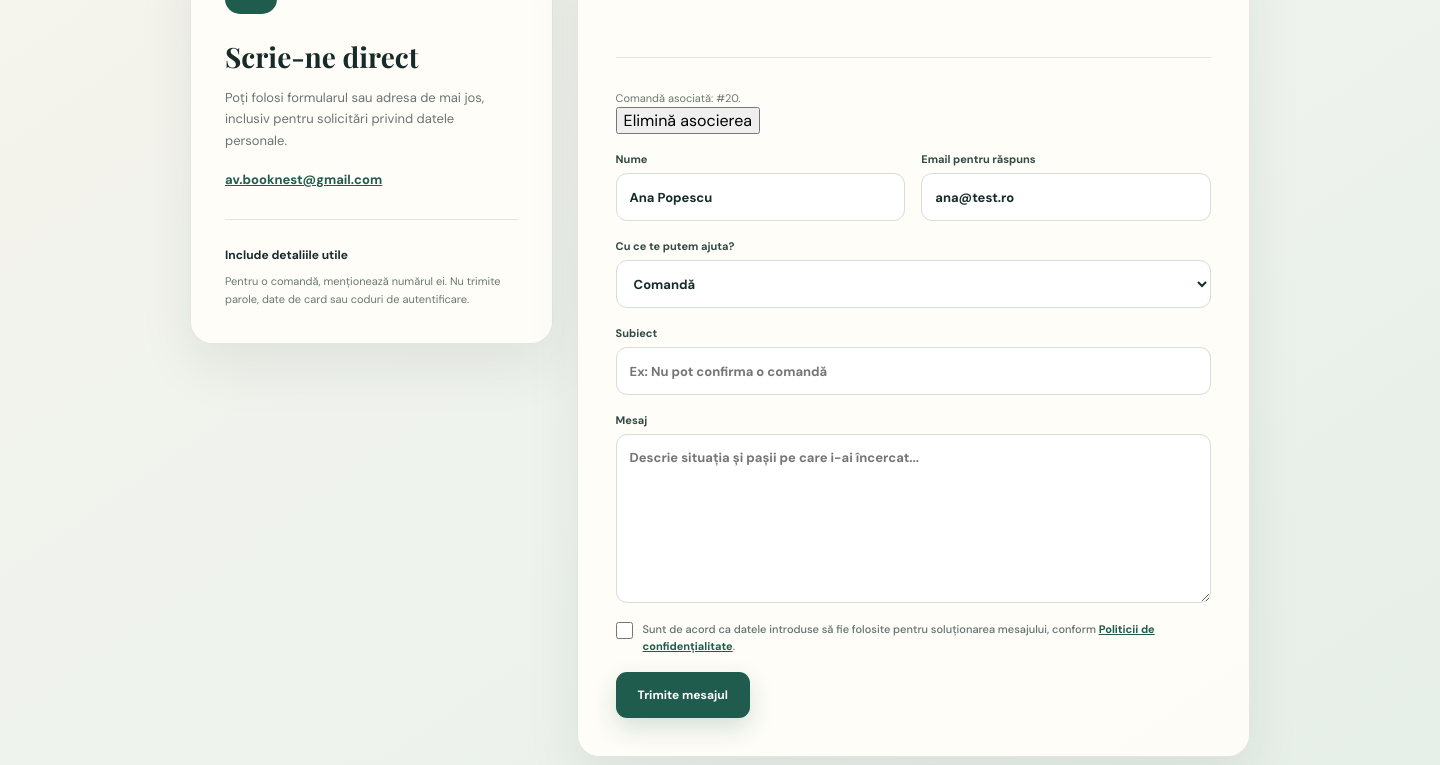
Test case: support portal › contact creates a linked ticket and displays its reference
(page scrolled)
Type "Ajutor comandă" into the field labelled "Subiect" at {"x": 913, "y": 371}, box [616,347,1211,395]
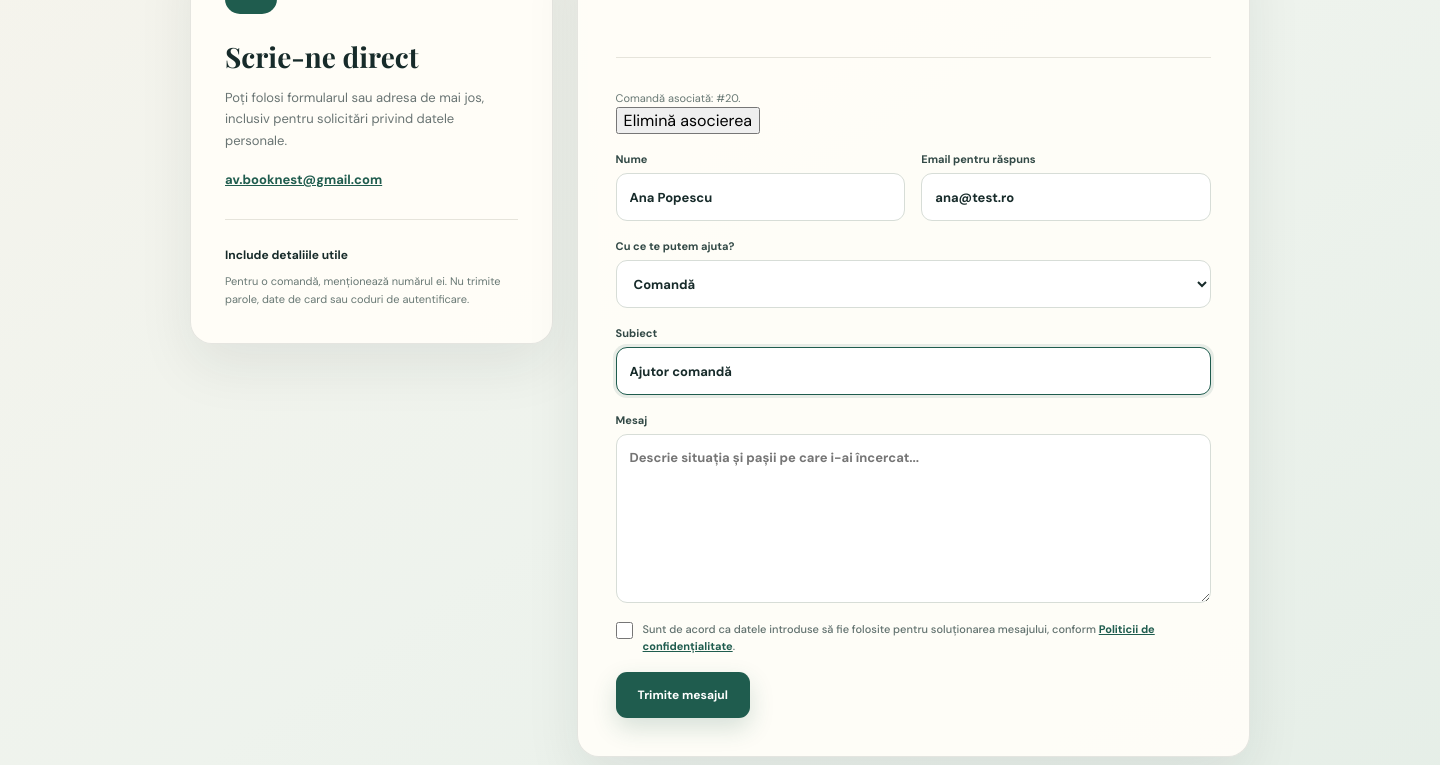
Type "Am nevoie de ajutor cu această comandă." into the text box labelled "Mesaj" at {"x": 913, "y": 519}, box [616,434,1211,603]
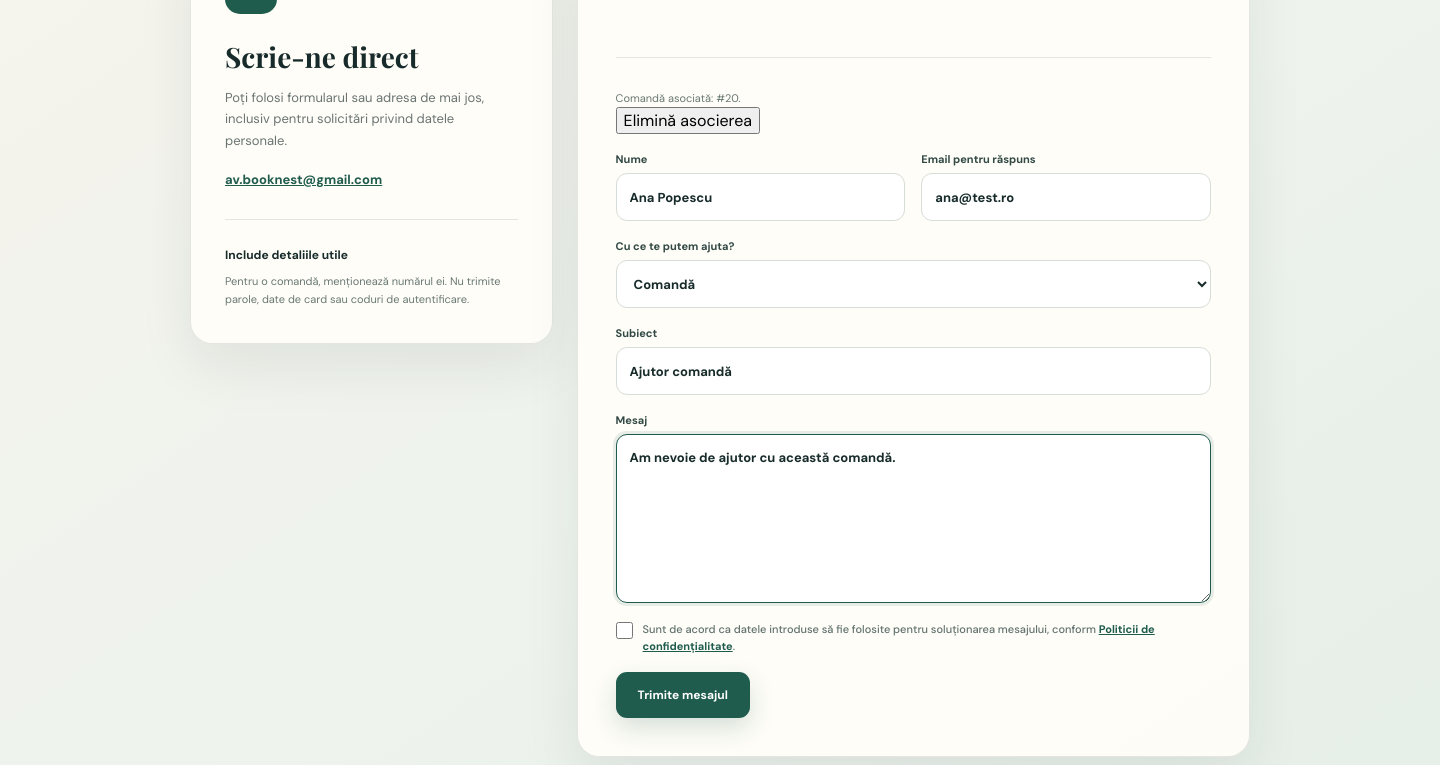
Click the checkbox at {"x": 624, "y": 631}, box [616,622,633,639]
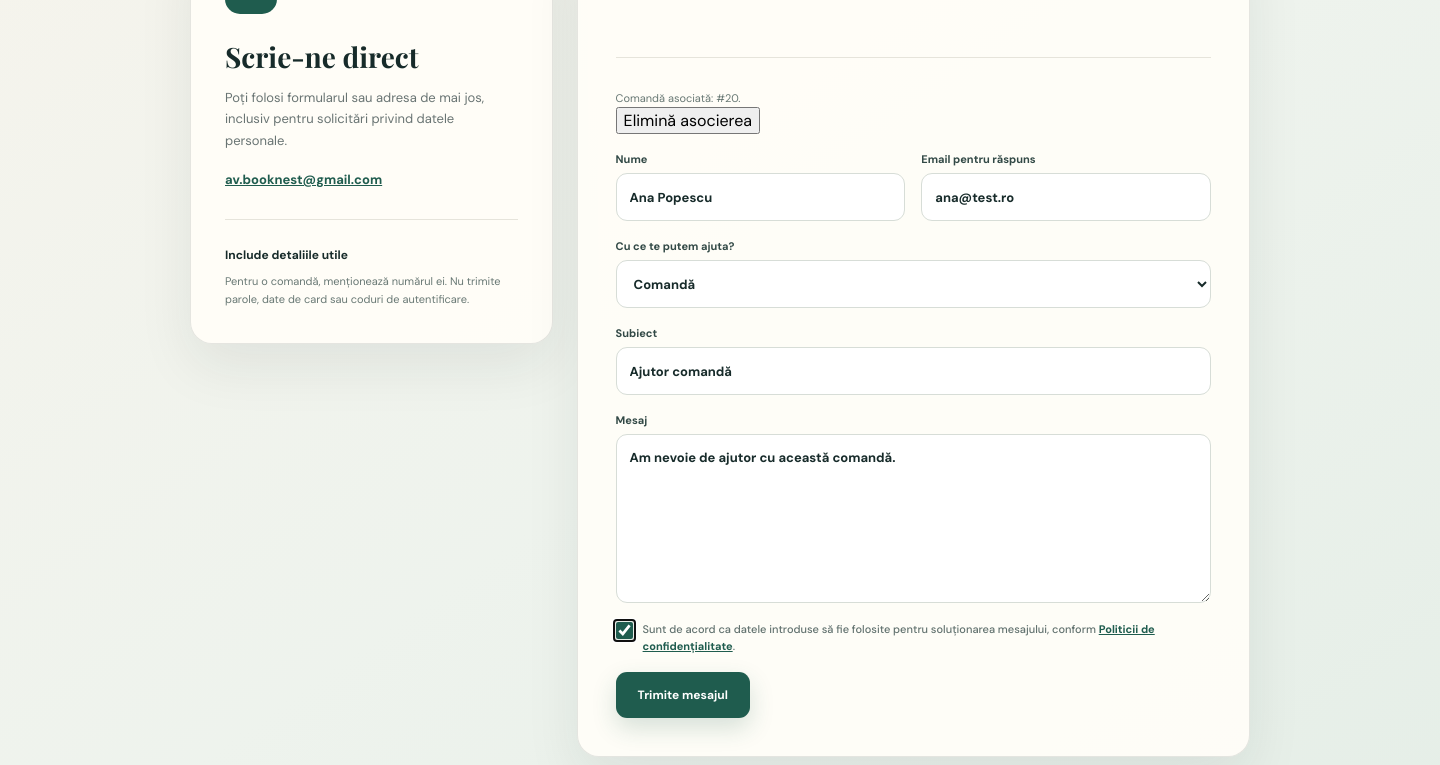
Click the button "Trimite mesajul" at {"x": 683, "y": 695}, box [616,672,750,718]
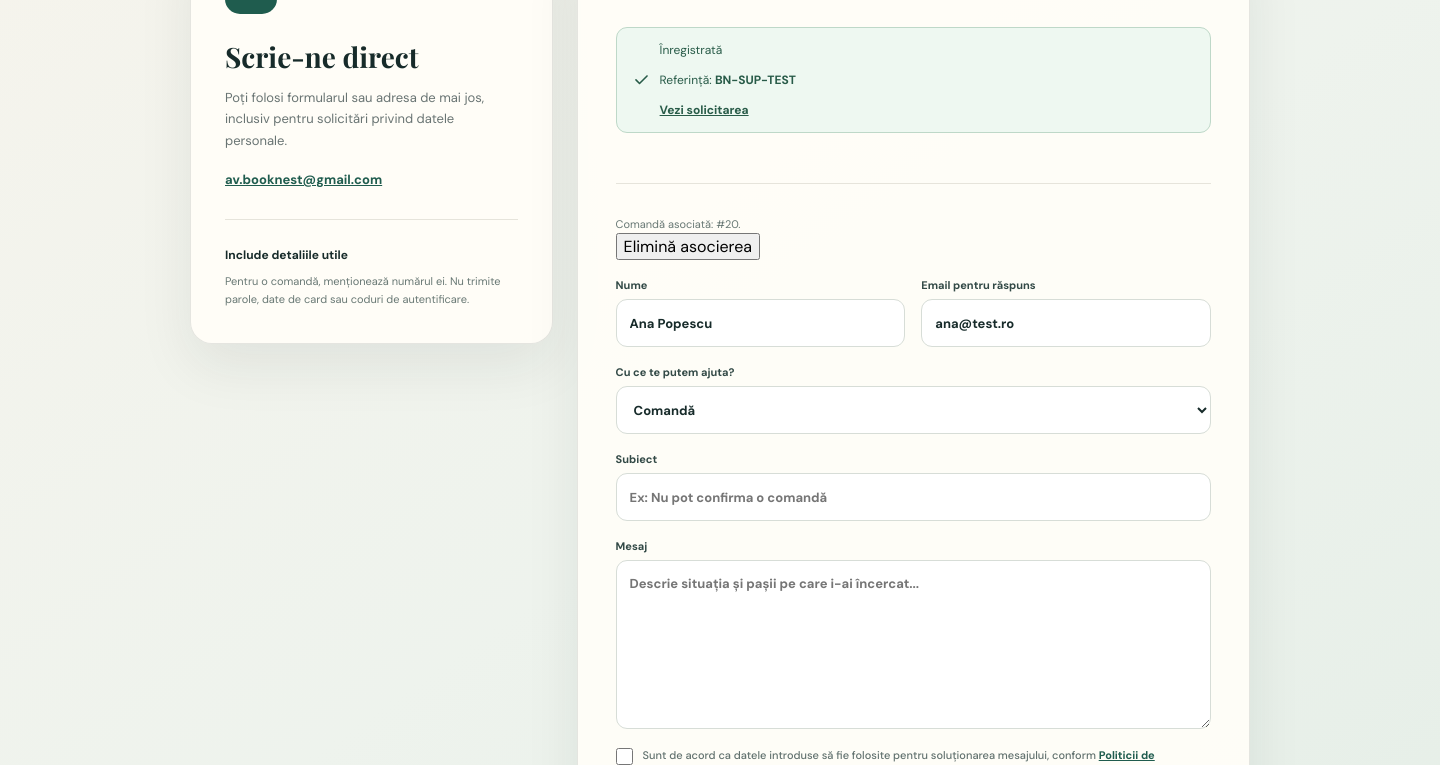
Result: the text "BN-SUP-TEST" is shown at [715,72,796,88]
